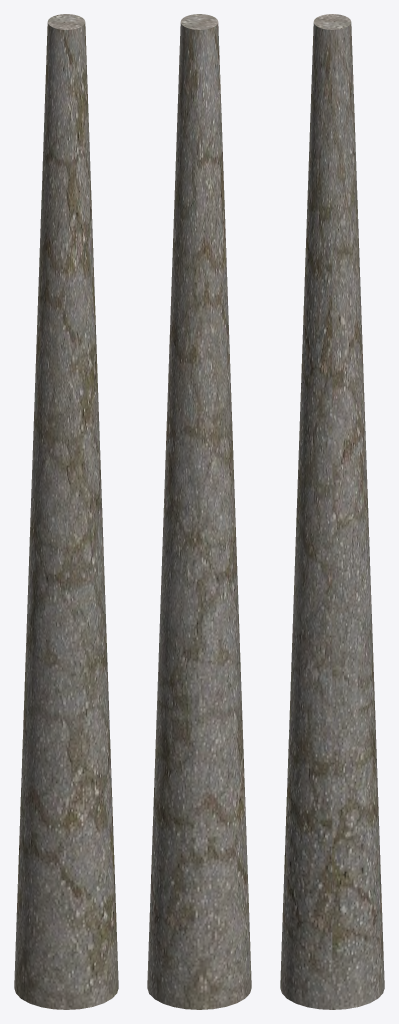
File: factory.fbx
3 views of the same model, side by side, from view 1: azimuth 90°, elevation 25°; view 2: azimuth 150°, elevation 25°; view 3: azimuth 270°, elevation 25° (orthographic).
Parts seen in each view (by area): view 1: factory; view 2: factory; view 3: factory.
Part boxes in pixels (x1=…): factory: x1=14, y1=14, x2=118, y2=1009; factory: x1=147, y1=14, x2=251, y2=1009; factory: x1=280, y1=14, x2=384, y2=1009.
Bounding box in the file's own units: 36.35 × 36.35 × 371.
1 material, 1 textured.
